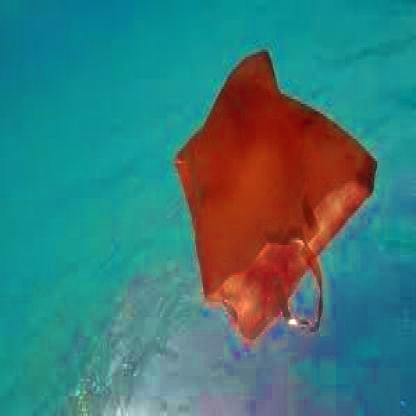pbag: (172, 52, 380, 344)
